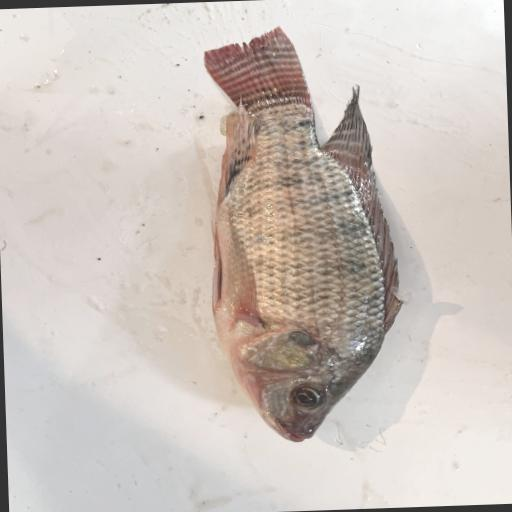Tilapia: (202, 23, 405, 446)
